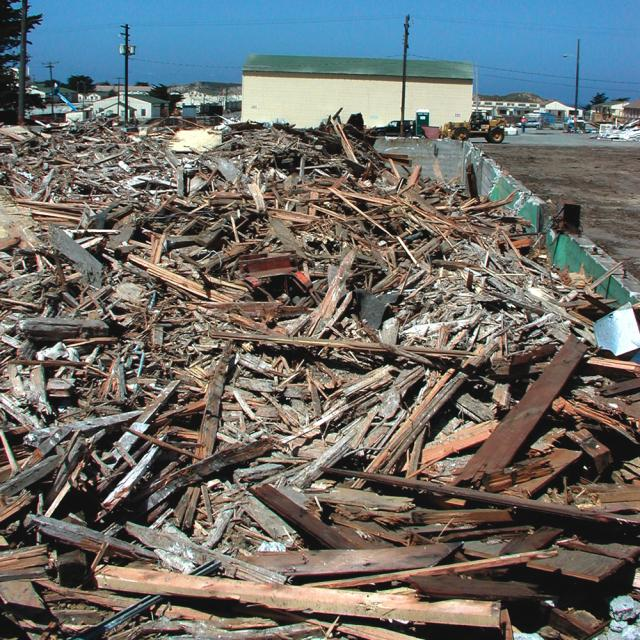green waste: (2, 138, 635, 640)
